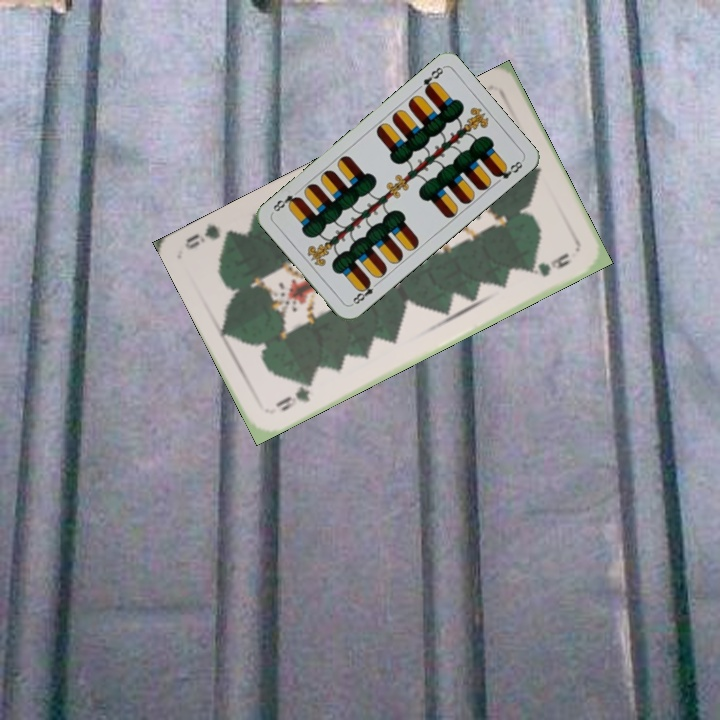E8: (347, 277, 381, 308), (419, 63, 446, 96)
G9: (271, 376, 318, 414)
